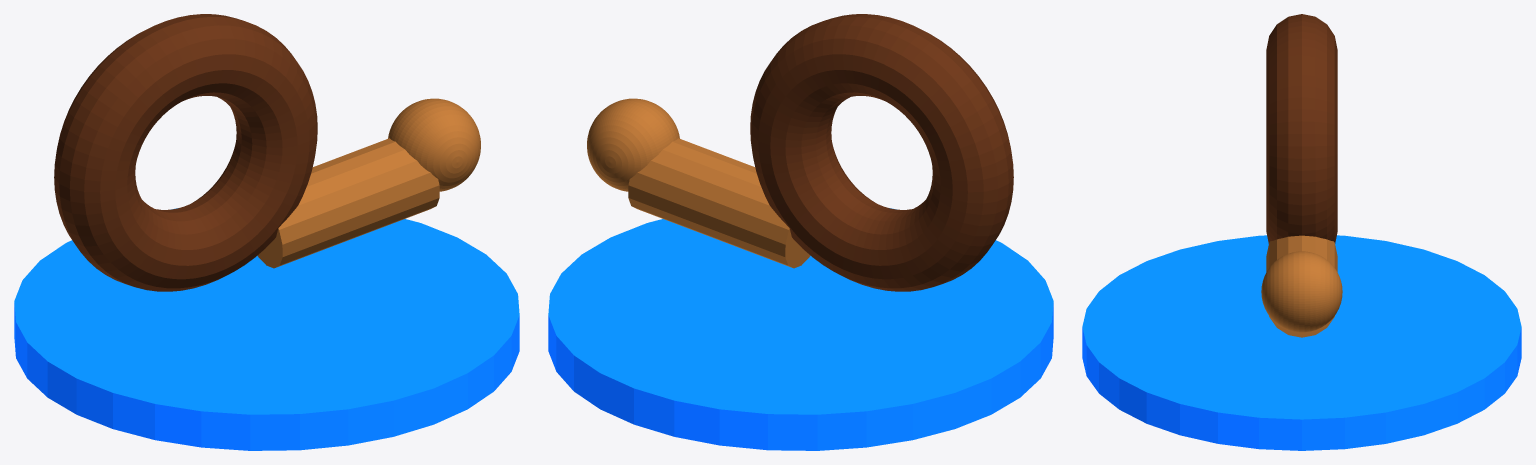
The model's file is french_escargot.dae.
The picture shows the model from 3 angles, left to right: view 1: azimuth 30°, elevation 25°; view 2: azimuth 150°, elevation 25°; view 3: azimuth 270°, elevation 25°; orthographic projection. The views are drawn at different scales.
Visible parts, largest first — view 1: 10_18_Popular_French_Escargot_ROOT_base, 10_18_Popular_French_Escargot_part_01, 10_18_Popular_French_Escargot_part_02, 10_18_Popular_French_Escargot_part_03; view 2: 10_18_Popular_French_Escargot_ROOT_base, 10_18_Popular_French_Escargot_part_01, 10_18_Popular_French_Escargot_part_02, 10_18_Popular_French_Escargot_part_03; view 3: 10_18_Popular_French_Escargot_ROOT_base, 10_18_Popular_French_Escargot_part_01, 10_18_Popular_French_Escargot_part_03, 10_18_Popular_French_Escargot_part_02.
Boxes of the visible parts, box(x1,y1,x2,y2) form: 10_18_Popular_French_Escargot_ROOT_base: box(14, 208, 519, 450); 10_18_Popular_French_Escargot_part_01: box(54, 14, 317, 291); 10_18_Popular_French_Escargot_part_02: box(257, 138, 439, 268); 10_18_Popular_French_Escargot_part_03: box(388, 98, 480, 191); 10_18_Popular_French_Escargot_ROOT_base: box(548, 208, 1053, 450); 10_18_Popular_French_Escargot_part_01: box(750, 14, 1013, 291); 10_18_Popular_French_Escargot_part_02: box(628, 138, 810, 268); 10_18_Popular_French_Escargot_part_03: box(587, 98, 679, 191); 10_18_Popular_French_Escargot_ROOT_base: box(1082, 235, 1521, 450); 10_18_Popular_French_Escargot_part_01: box(1266, 14, 1337, 243); 10_18_Popular_French_Escargot_part_03: box(1261, 251, 1342, 332); 10_18_Popular_French_Escargot_part_02: box(1266, 235, 1337, 337).
Size of the model in its own units: 0.76 by 0.5691 by 0.76.
